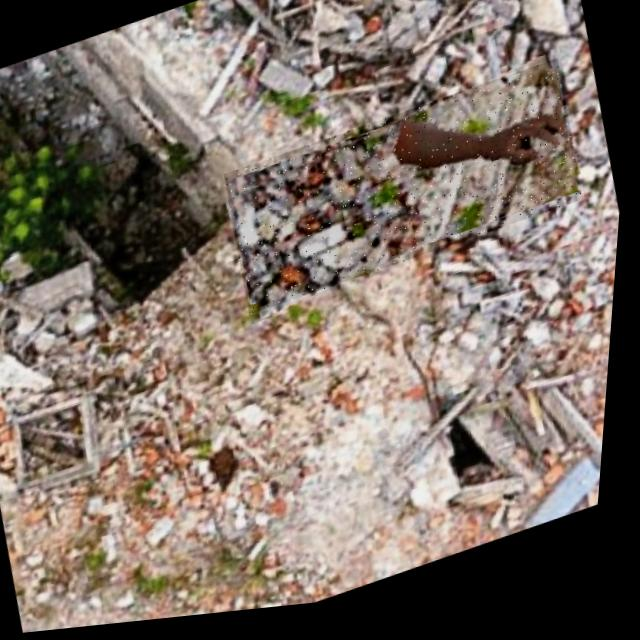Person in Rubble: (218, 67, 595, 323)
